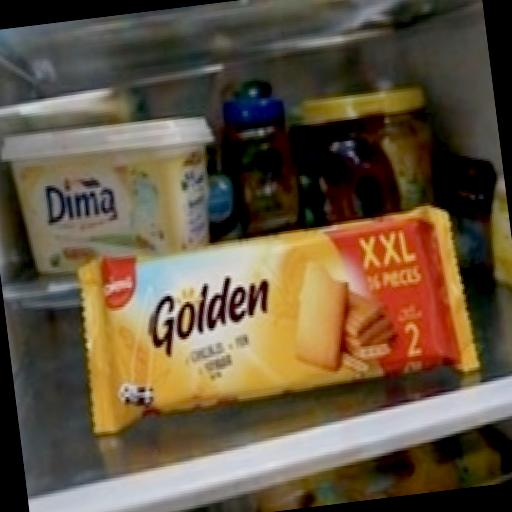golden: (29, 127, 512, 499)
